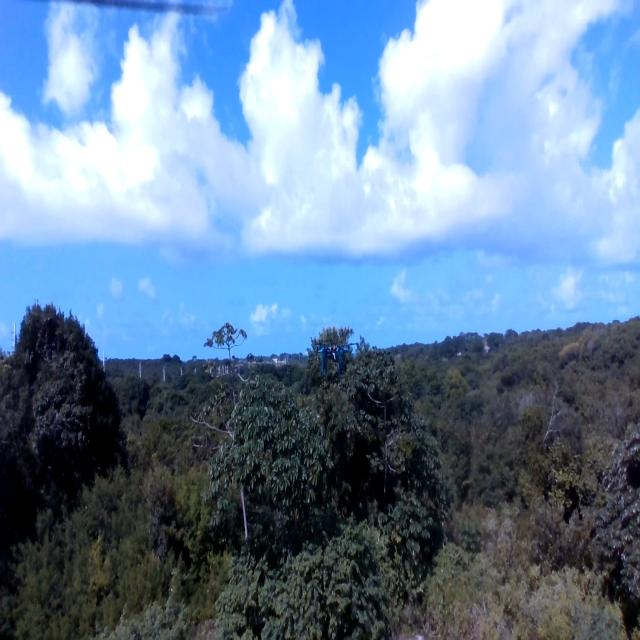-uav-: (312, 335, 358, 384)
